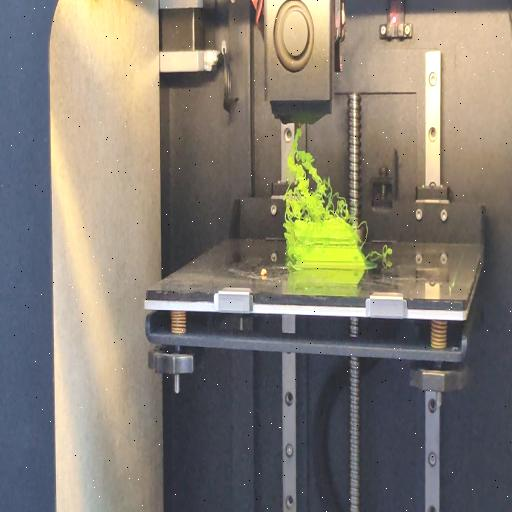spaghetti: (279, 129, 353, 225), (284, 229, 298, 273), (366, 244, 394, 260), (359, 220, 369, 250)
